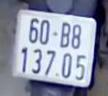0: (60, 52, 73, 79), (39, 17, 51, 46)
1: (18, 46, 29, 74)
3: (31, 47, 43, 76)
5: (74, 52, 88, 82)
6: (27, 16, 39, 44)
7: (44, 48, 57, 77)
8: (72, 23, 82, 50)
B: (58, 21, 71, 49)
